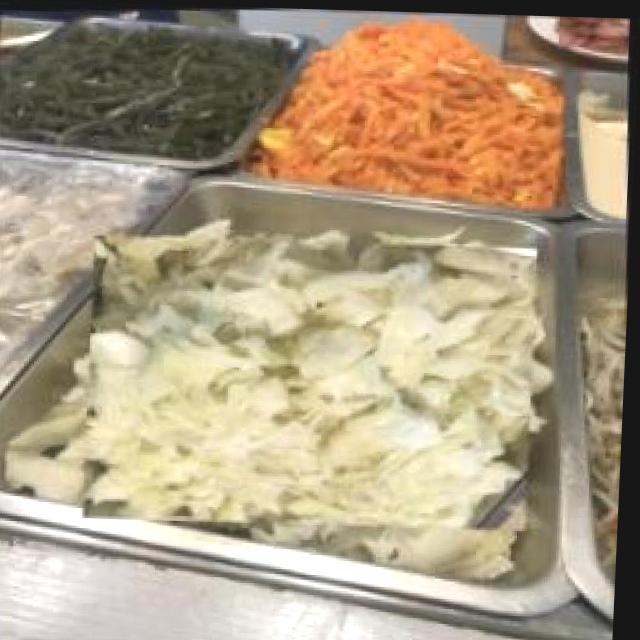carrot_eggs: (262, 28, 547, 193)
chinese_cabbage: (76, 217, 550, 543)
chinese_sausage: (557, 13, 631, 45)
mung_bean_sprouts: (572, 289, 630, 437)
